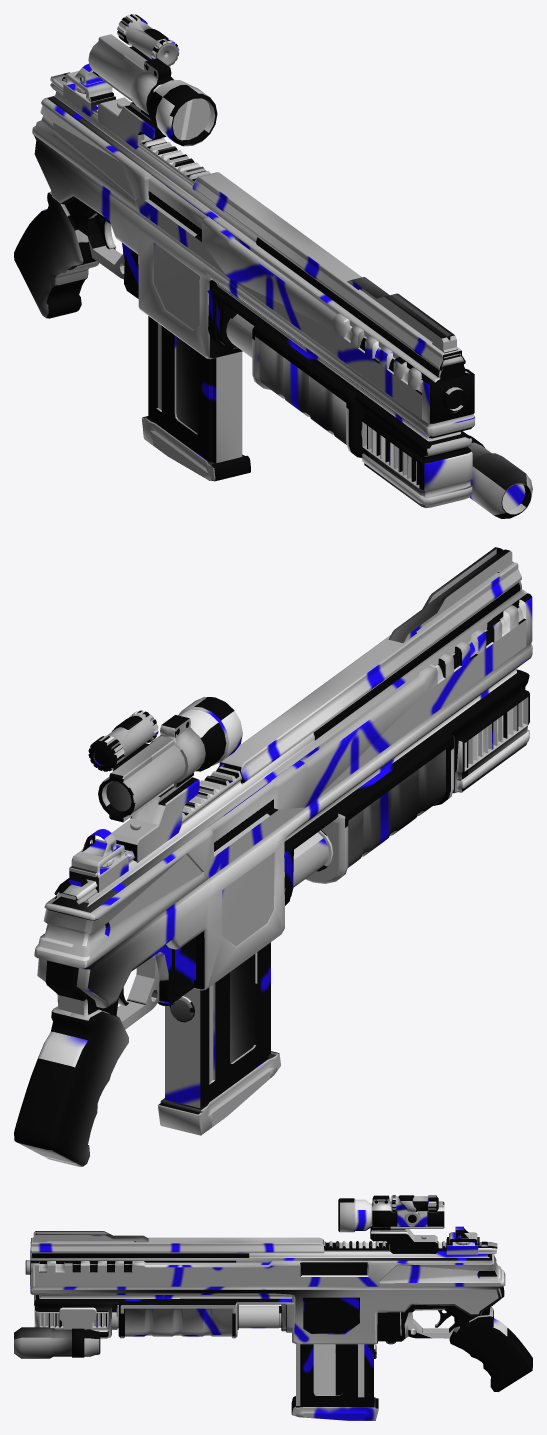
The model's file is shotgun.dae.
The picture shows the model from 3 angles, top to bottom: view 1: azimuth 30°, elevation 25°; view 2: azimuth 150°, elevation 25°; view 3: azimuth 270°, elevation 25°; orthographic projection. The views are drawn at different scales.
Visible parts, largest first — view 1: GeometryshotgNode_000_Geometryshotg_0000; view 2: GeometryshotgNode_000_Geometryshotg_0000; view 3: GeometryshotgNode_000_Geometryshotg_0000.
Boxes of the visible parts, <box> form: GeometryshotgNode_000_Geometryshotg_0000: <box>14,14,532,518</box>; GeometryshotgNode_000_Geometryshotg_0000: <box>14,547,532,1166</box>; GeometryshotgNode_000_Geometryshotg_0000: <box>14,1195,532,1420</box>.
Size of the model in its own units: 0.2846 by 2.14 by 1.03.
Materials: 1 (1 with a texture image).
